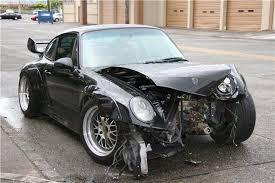bonnet-dent: (114, 60, 216, 97)
fender-dent: (82, 75, 123, 120)
